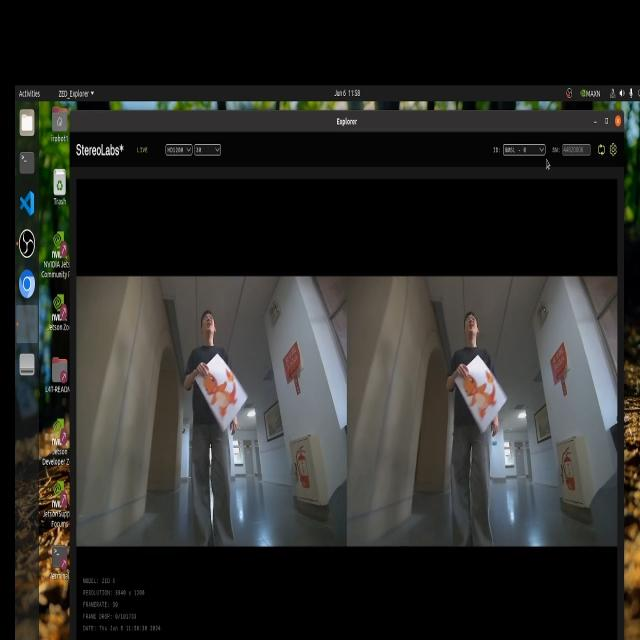red: (202, 362, 244, 429), (464, 364, 502, 422)
